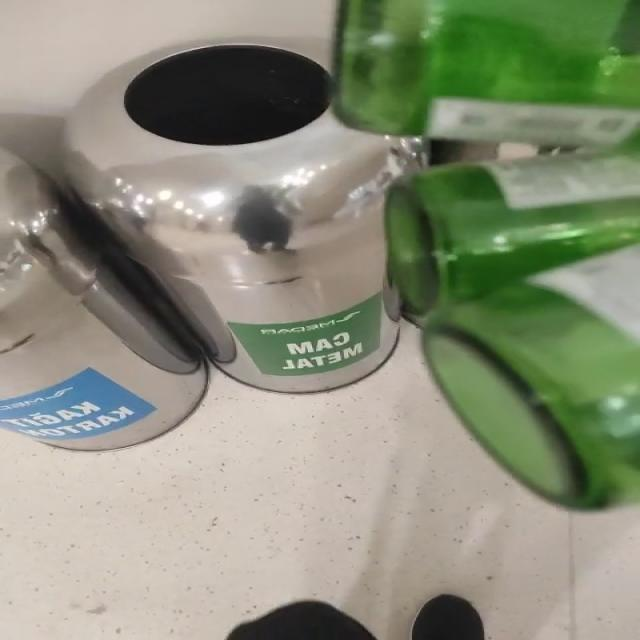glass: (335, 0, 640, 511)
